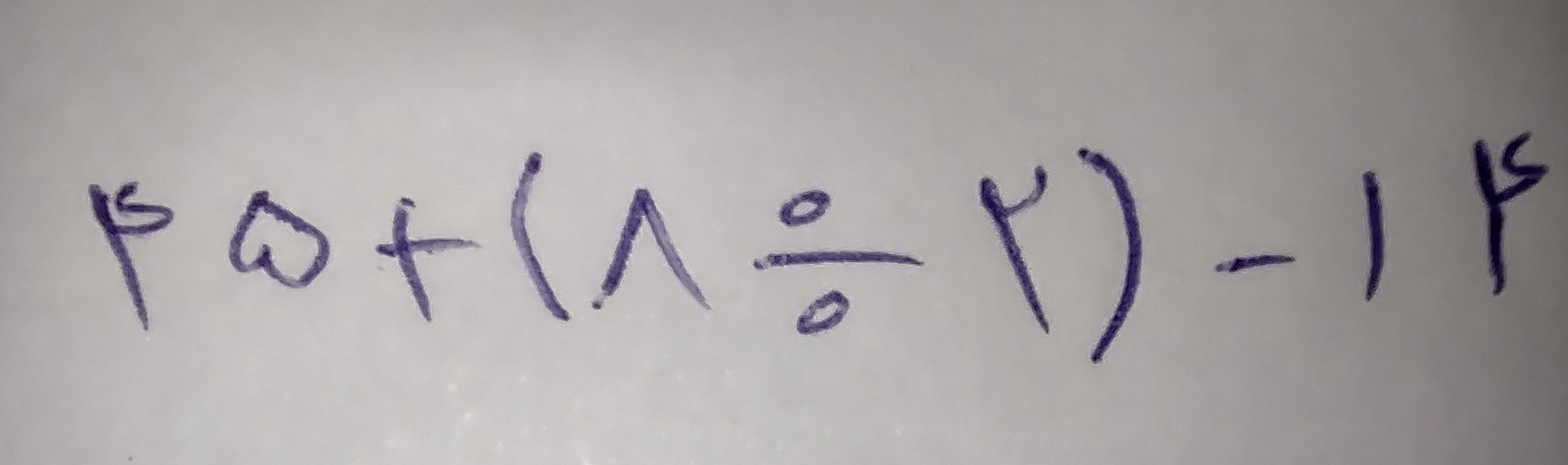character: (753, 188, 925, 333), (592, 186, 716, 313), (1076, 146, 1145, 364), (375, 195, 483, 324), (1472, 132, 1555, 298), (978, 164, 1055, 337), (88, 183, 175, 329), (510, 151, 574, 322), (227, 190, 331, 290), (1358, 170, 1389, 300), (1215, 250, 1297, 275)
